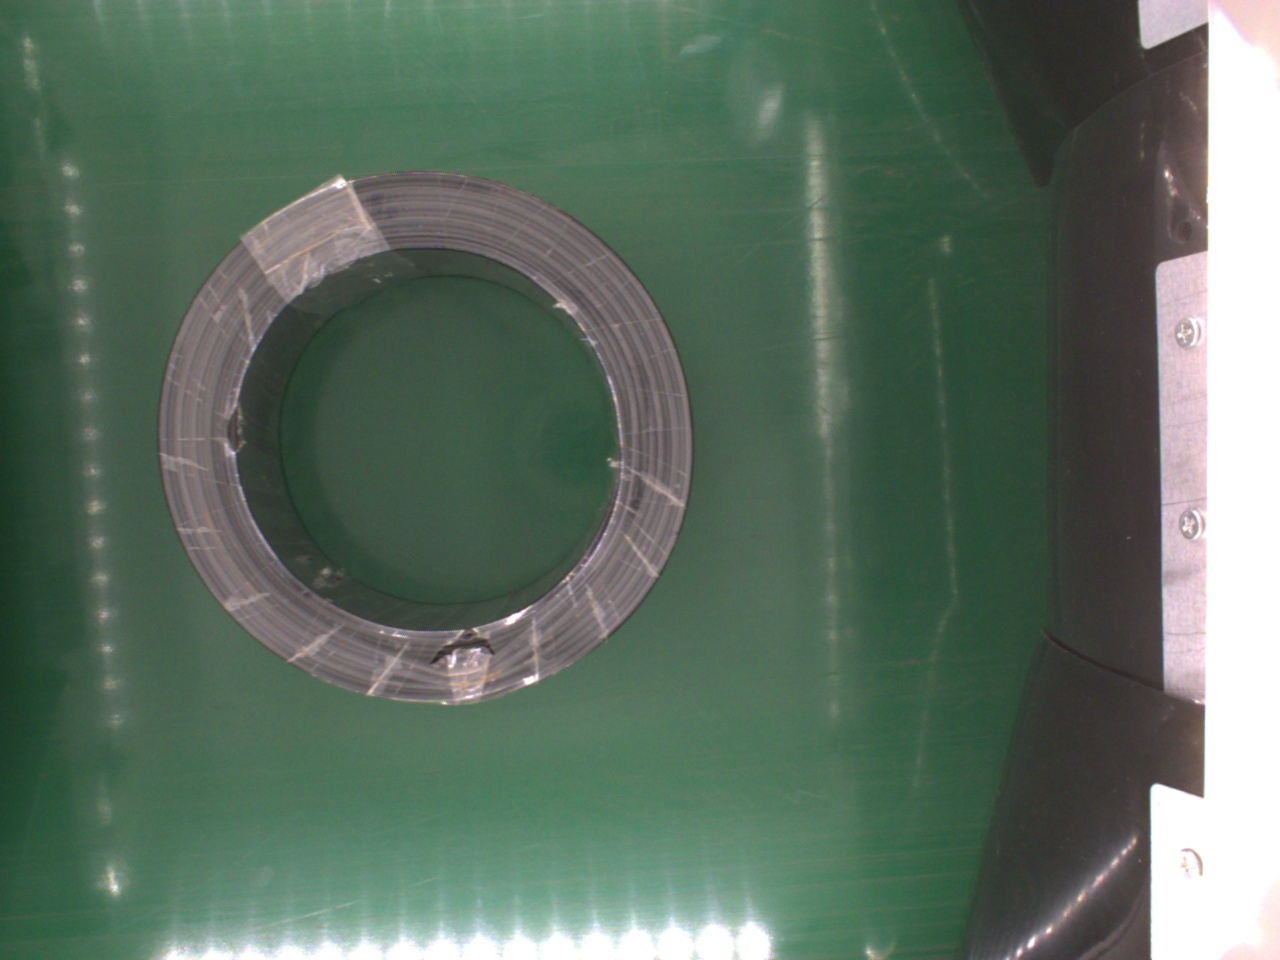black: (161, 162, 698, 710)
